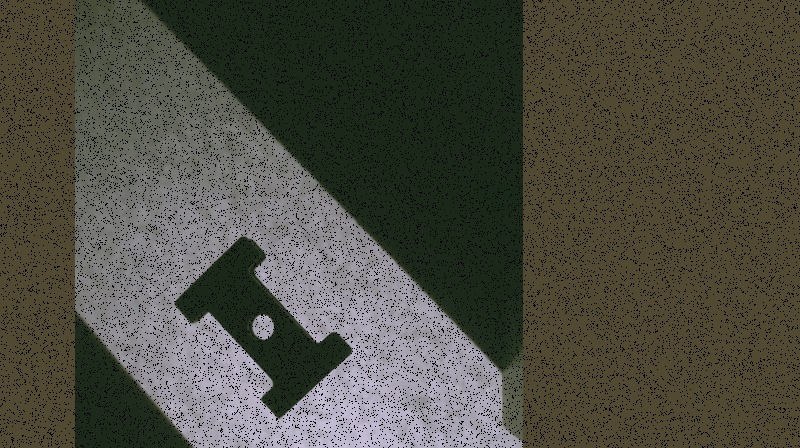O002: (172, 231, 353, 421)
